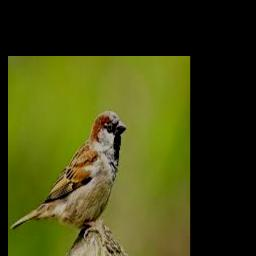Sparrow: (10, 110, 127, 241)
